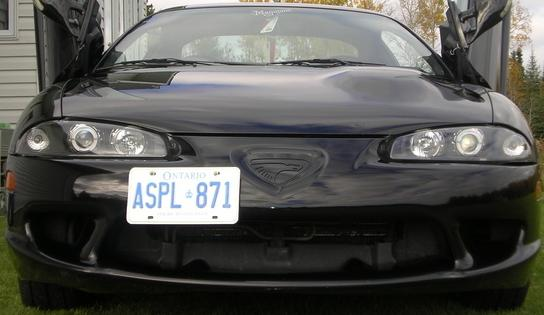front_view: (18, 101, 538, 279)
headlight: (389, 130, 530, 182)
